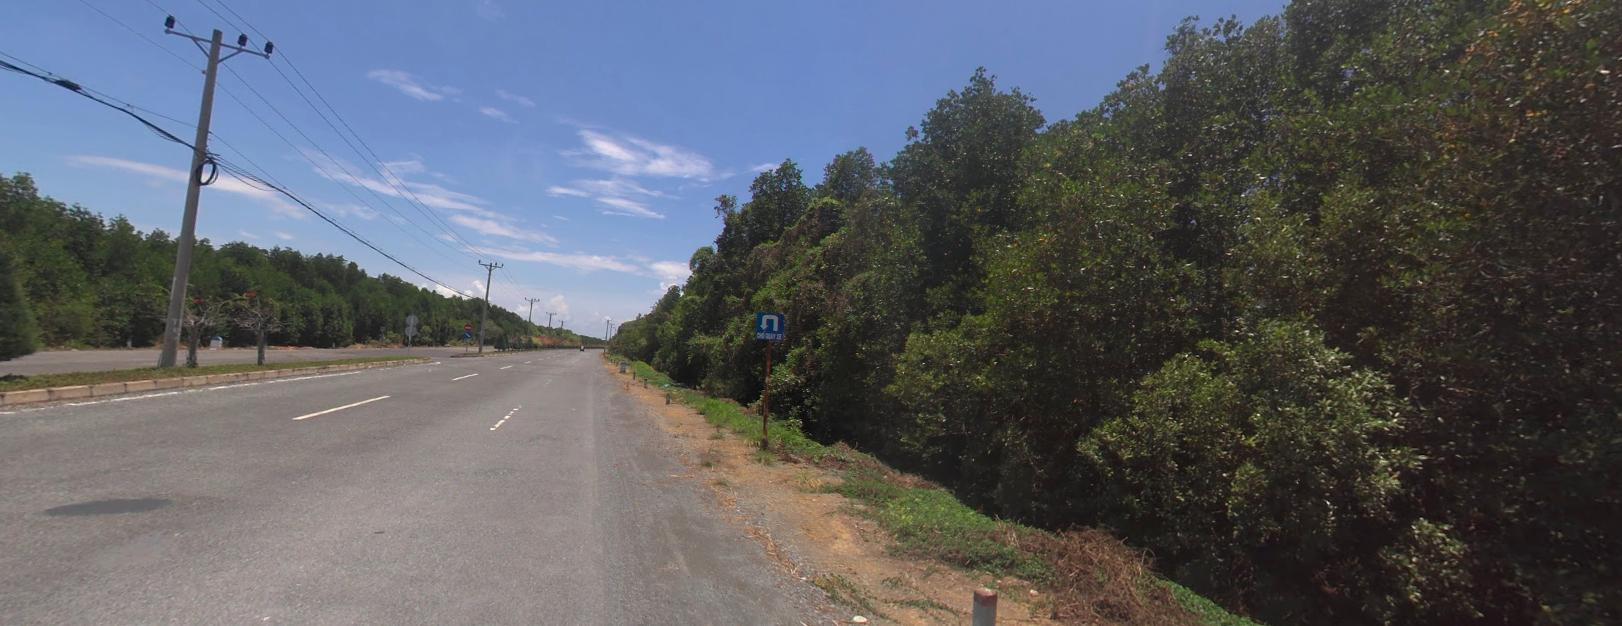Cam nguoc chieu: (463, 322, 471, 328)
Hieu lenh: (463, 328, 472, 336)
